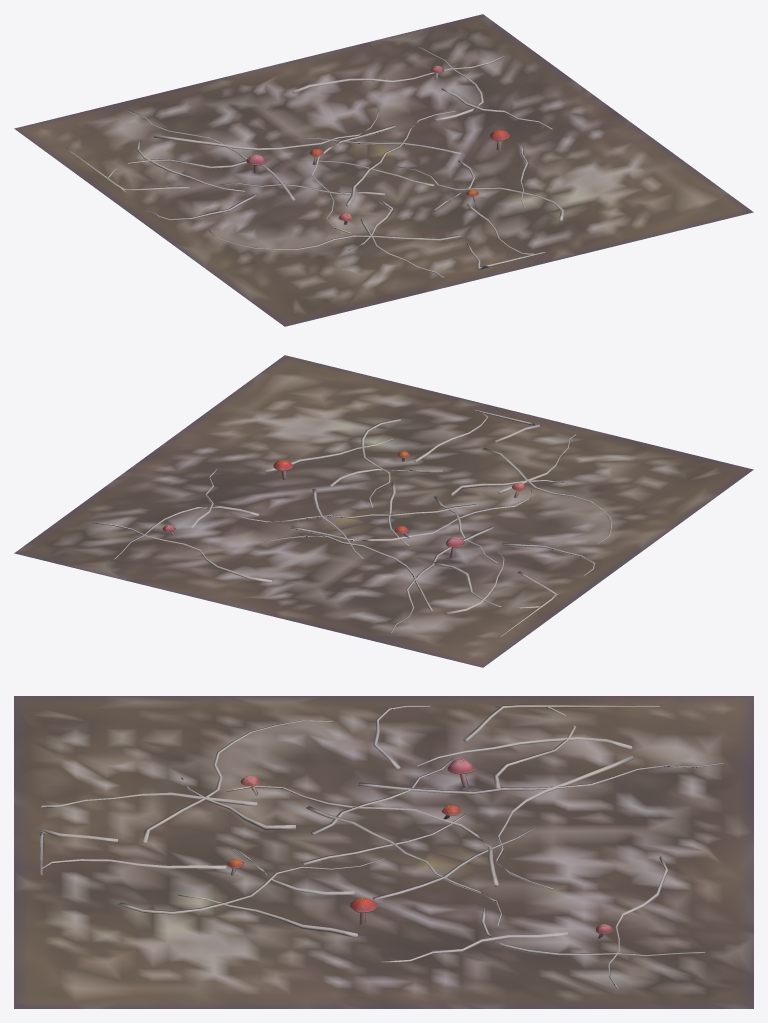
The model's file is labirent_yol_b.glb.
3 views of the same model, one above another, from view 1: azimuth 30°, elevation 25°; view 2: azimuth 150°, elevation 25°; view 3: azimuth 270°, elevation 25° (orthographic). The views are drawn at different scales.
Parts seen in each view (by area): view 1: labirent_yol_b_LOD0; view 2: labirent_yol_b_LOD0; view 3: labirent_yol_b_LOD0.
Part boxes in pixels (x1,y1,x2,y2): labirent_yol_b_LOD0: [14, 14, 753, 326]; labirent_yol_b_LOD0: [14, 355, 753, 667]; labirent_yol_b_LOD0: [14, 696, 753, 1008].
Size of what is drawn, in the model's own units: 4 by 0.2061 by 4.
